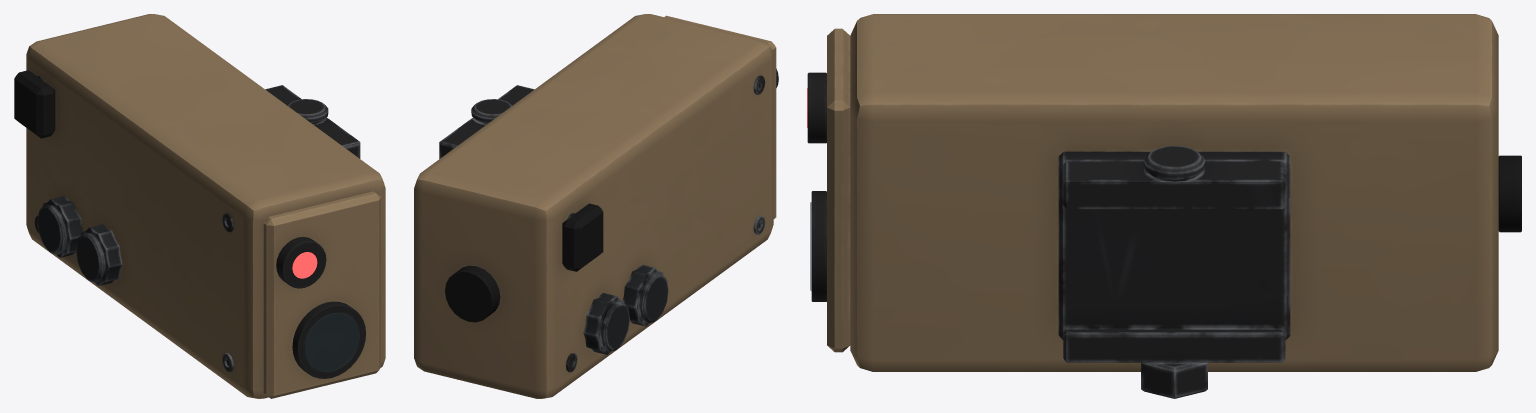
File: Laser_Module.fbx
The picture shows the model from 3 angles, left to right: view 1: azimuth 30°, elevation 25°; view 2: azimuth 150°, elevation 25°; view 3: azimuth 270°, elevation 25°; orthographic projection. The views are drawn at different scales.
Visible parts, largest first — view 1: Body, LaserAperture; view 2: Body; view 3: Body.
Boxes of the visible parts, x1,y1,x2,y2 form: Body: (14,14,385,398); LaserAperture: (292,252,317,278); Body: (414,14,778,398); Body: (807,14,1521,398).
Bounding box in the file's own units: 0.0449 × 0.04 × 0.0926.
